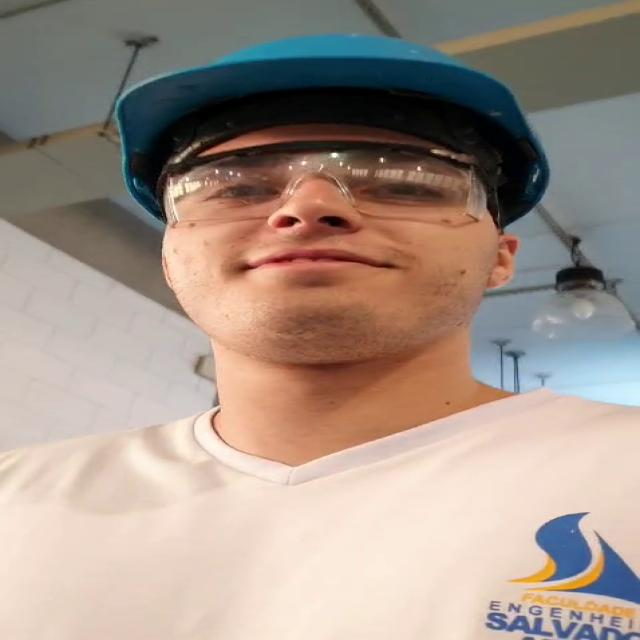oculos-epi: (163, 141, 485, 225)
